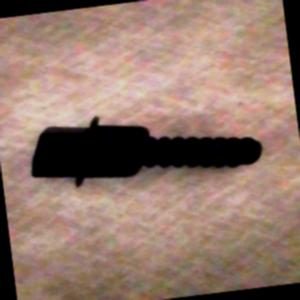parafuso: (24, 92, 272, 195)
